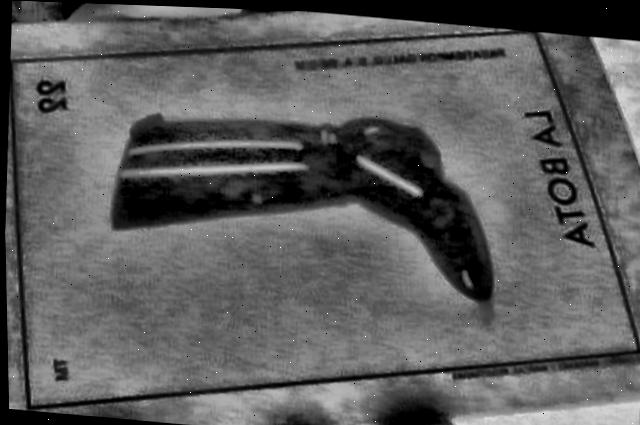La Bota: (9, 28, 639, 407)
